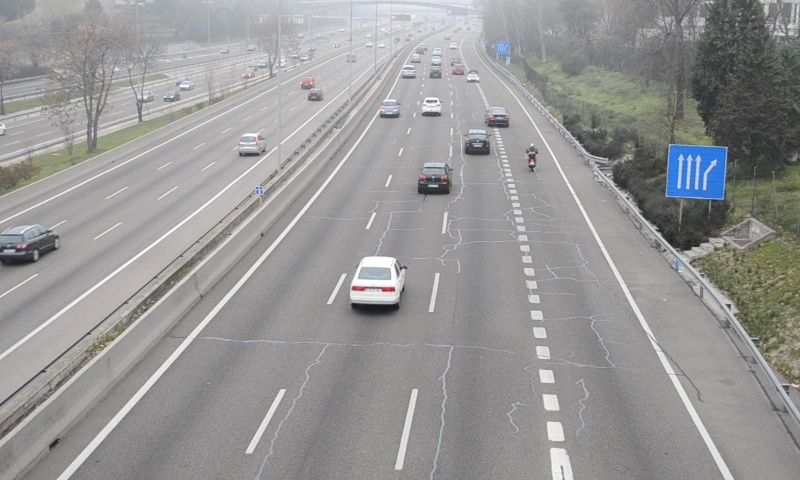car: (348, 256, 407, 305), (418, 163, 452, 196), (463, 130, 490, 156), (486, 107, 510, 128), (420, 97, 442, 117), (378, 99, 400, 116), (400, 63, 417, 78)
motorcycle: (526, 142, 539, 174)
